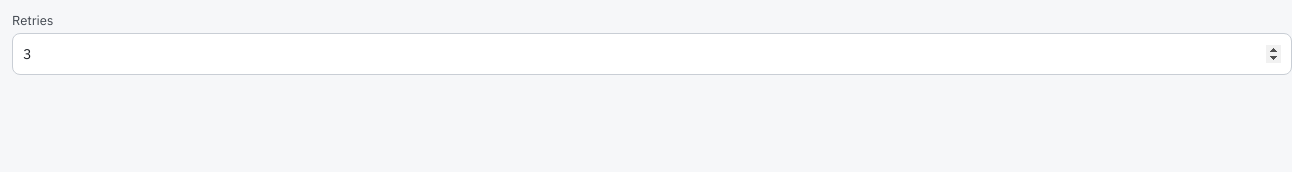
Test: NumberField limits › explains an out-of-range or fractional value under the field, linked for screen readers
Replace the text in the number field with "11": (652, 54) [23, 35, 1281, 73]
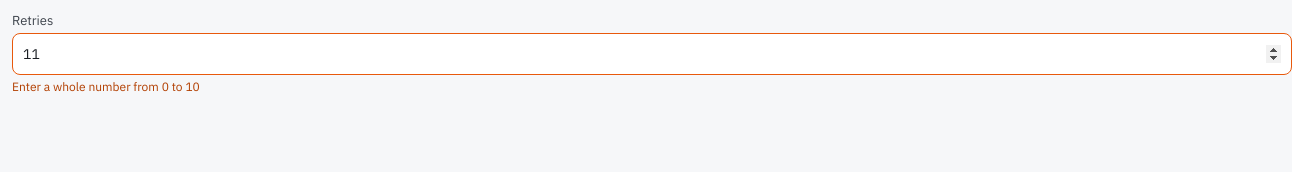
Expected: the number field is marked as invalid
Replace the text in the number field with "2.5": (652, 54) [23, 35, 1281, 73]
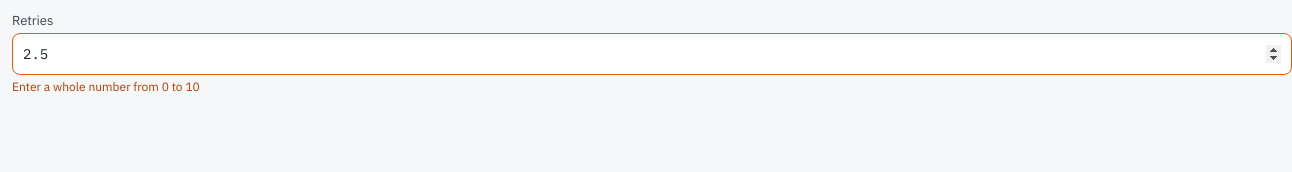
Expected: the number field is marked as invalid
Replace the text in the number field with "-1": (652, 54) [23, 35, 1281, 73]
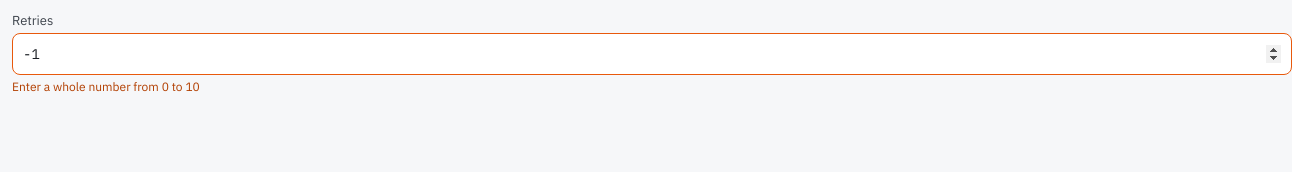
Expected: the number field is marked as invalid
Replace the text in the number field with "7": (652, 54) [23, 35, 1281, 73]
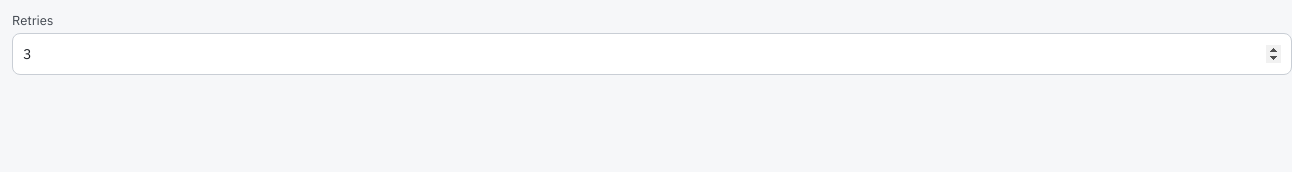
Expected: the text "Enter a whole number" is gone
